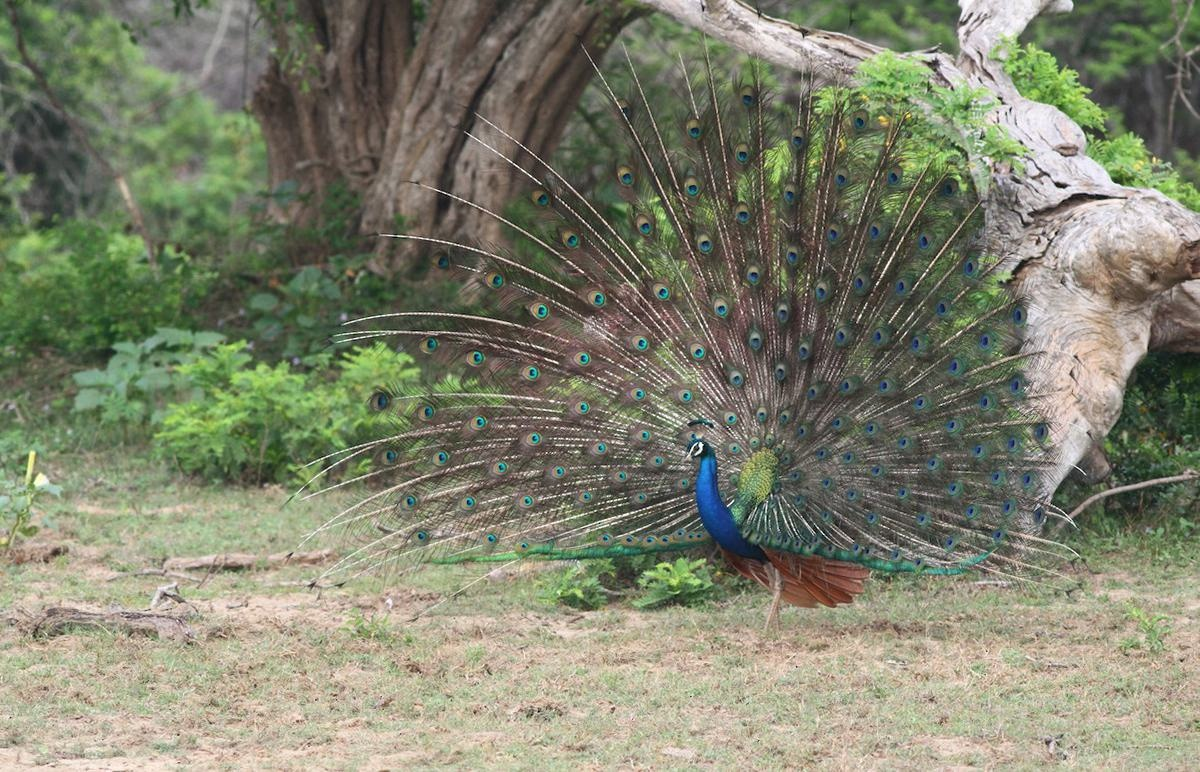peacock: (358, 77, 1010, 620)
